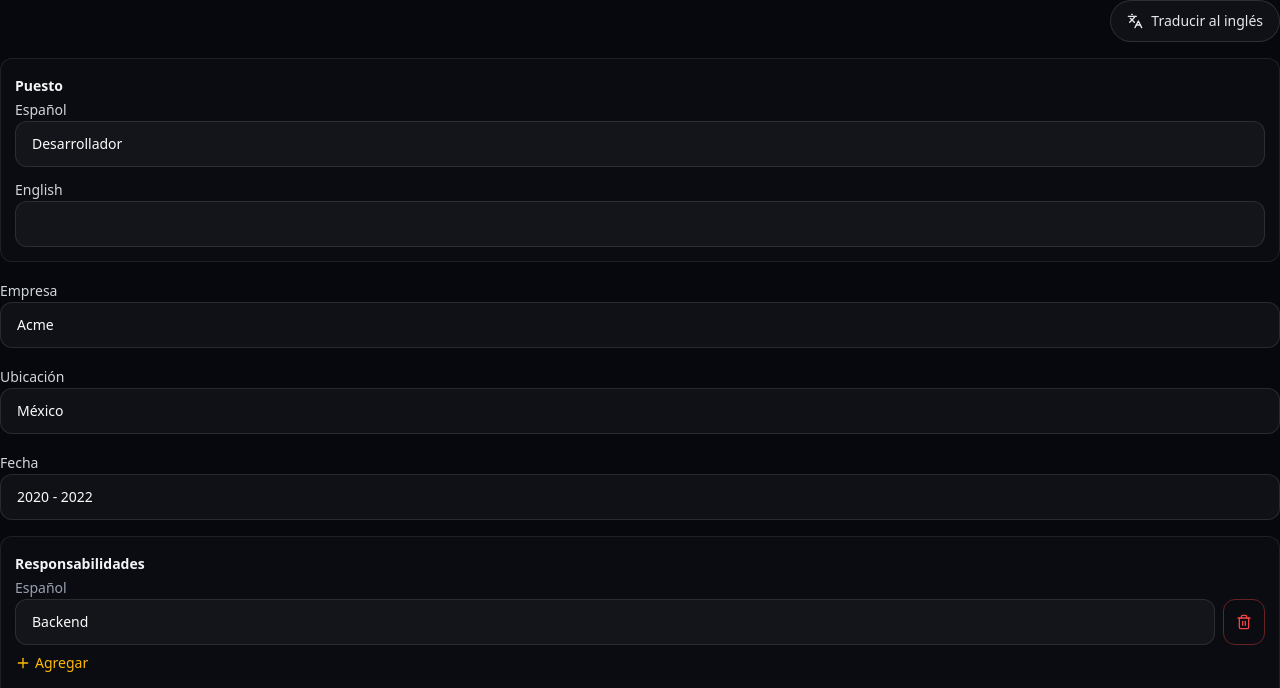
ExperienceForm › rellena los campos en inglés al traducir
Click the button "Traducir al inglés" at {"x": 1195, "y": 21}, box [1110, 0, 1279, 42]
(page scrolled)
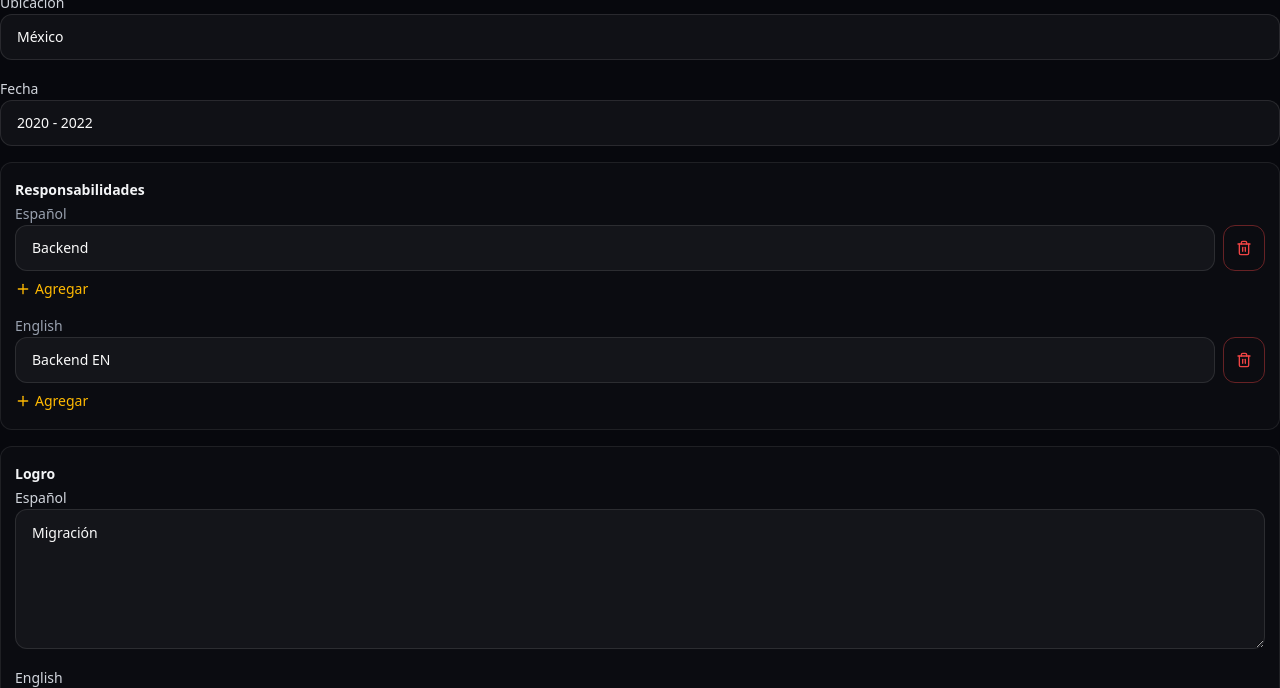
Result: the 2nd field showing "Backend EN" is shown at [15, 337, 1215, 383]
